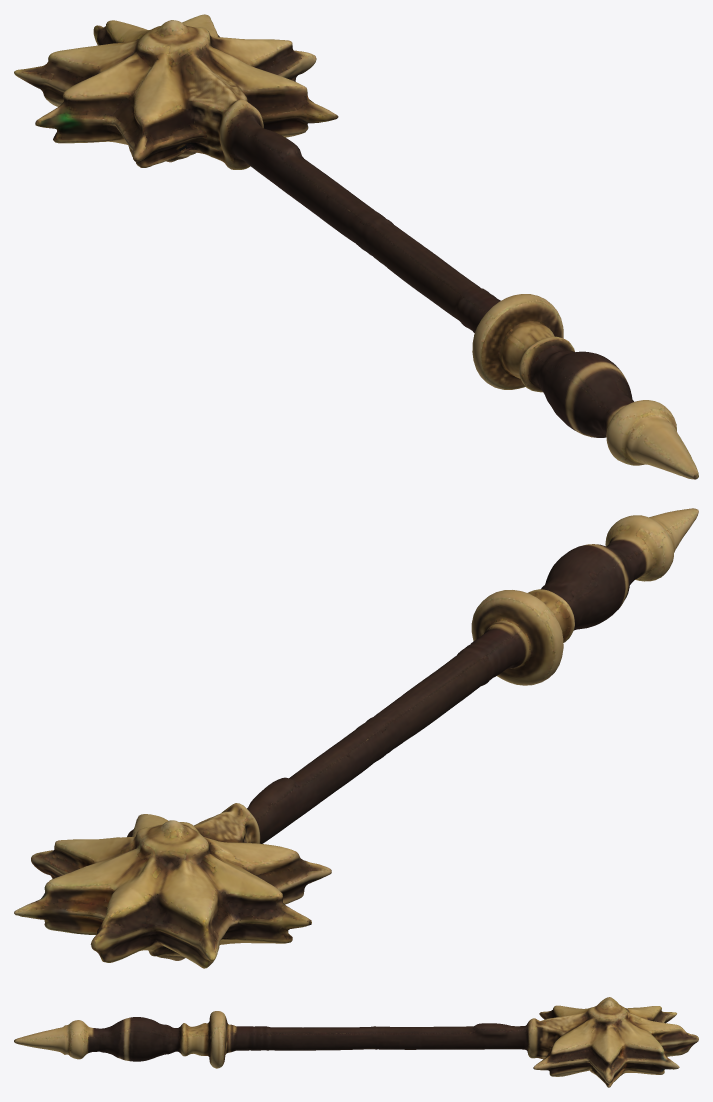
The model's file is practica_RVAV_Olaia_Picabea.fbx.
The picture shows the model from 3 angles, top to bottom: view 1: azimuth 30°, elevation 25°; view 2: azimuth 150°, elevation 25°; view 3: azimuth 270°, elevation 25°; orthographic projection. The views are drawn at different scales.
Visible parts, largest first — view 1: Bake_To_Texture; view 2: Bake_To_Texture; view 3: Bake_To_Texture.
Boxes of the visible parts, x1,y1,x2,y2 form: Bake_To_Texture: (14,14,698,479); Bake_To_Texture: (14,508,698,968); Bake_To_Texture: (14,997,698,1087).
Size of the model in its own units: 17.83 by 8.43 by 66.44.
Materials: 1 (1 with a texture image).
